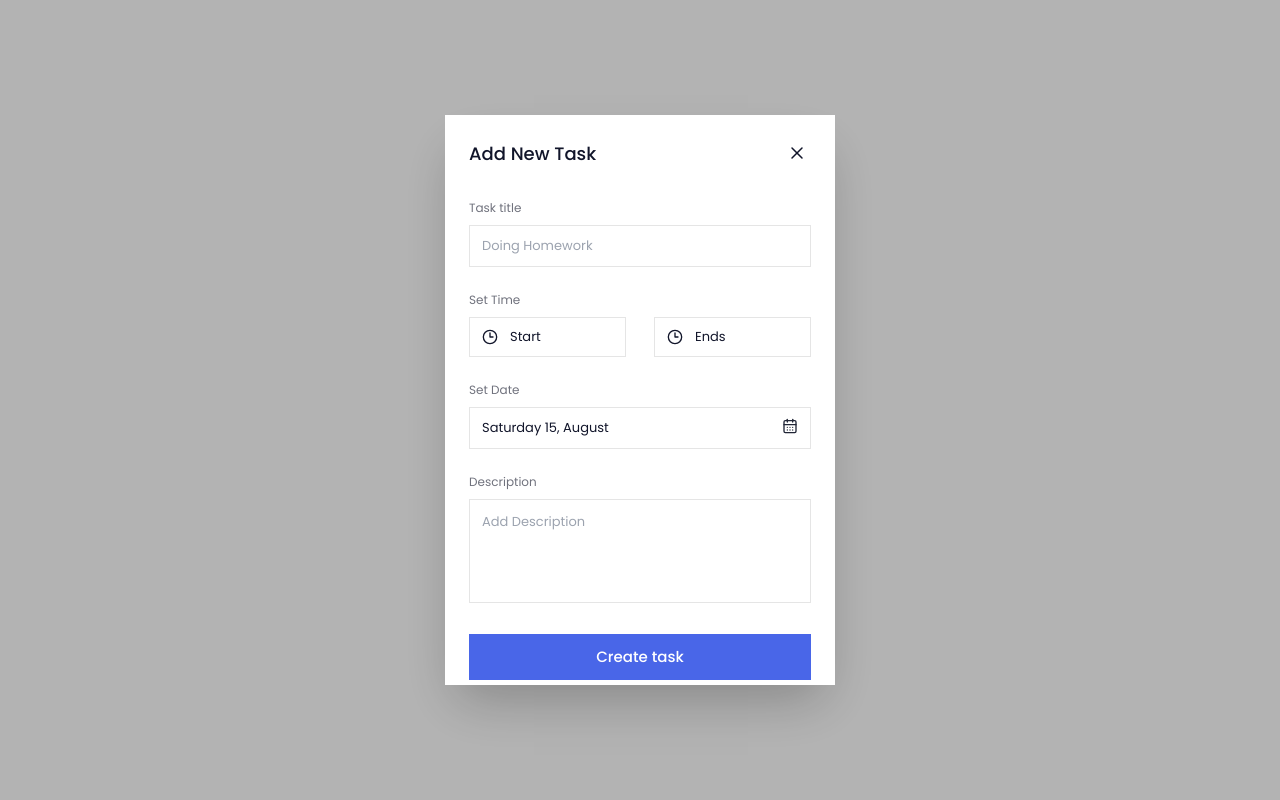
Scenario: TaskFormModal Component › displays error messages when mandatory fields are missing
The image size is (1280, 800).
Step 1. Click the button "Create task" → {"x": 640, "y": 657}, box [469, 634, 811, 680]
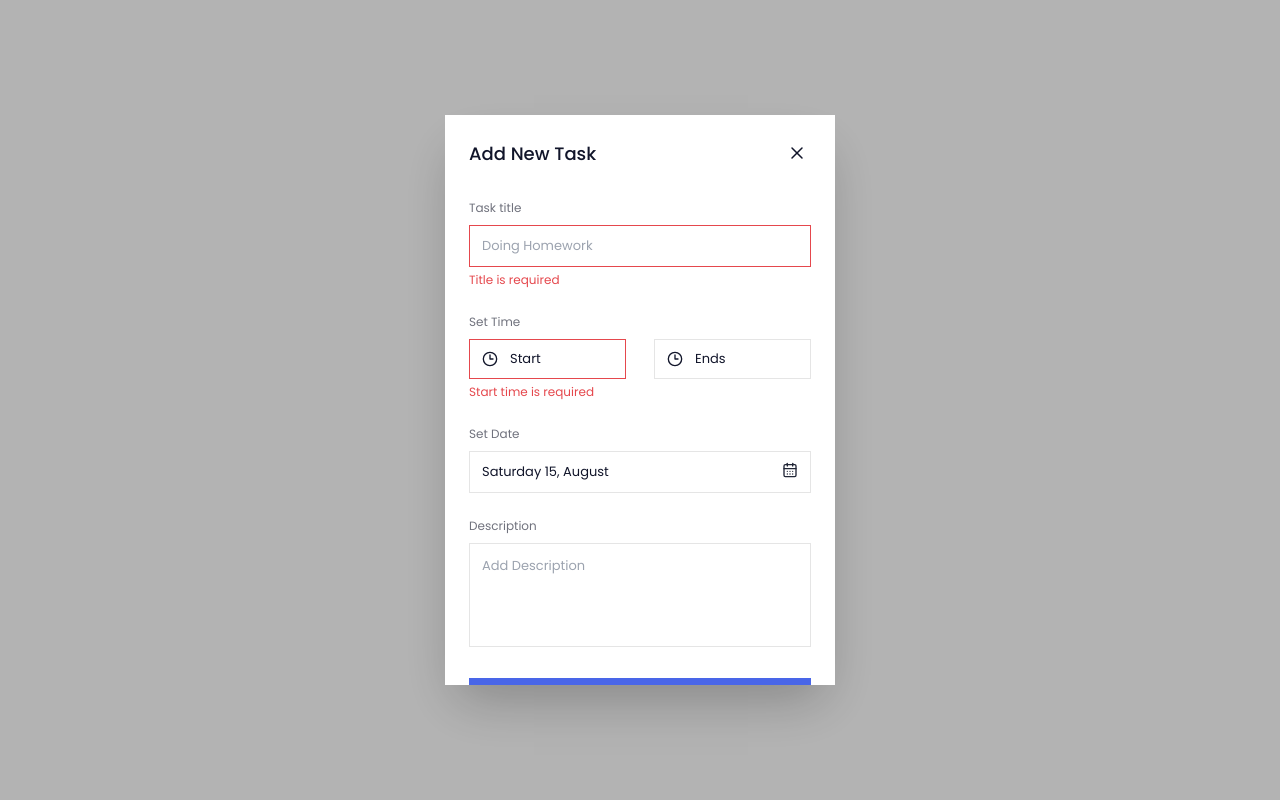
Now the text "Title is required" is shown, box [469, 270, 560, 288]
Now the text "Start time is required" is shown, box [469, 382, 594, 400]
